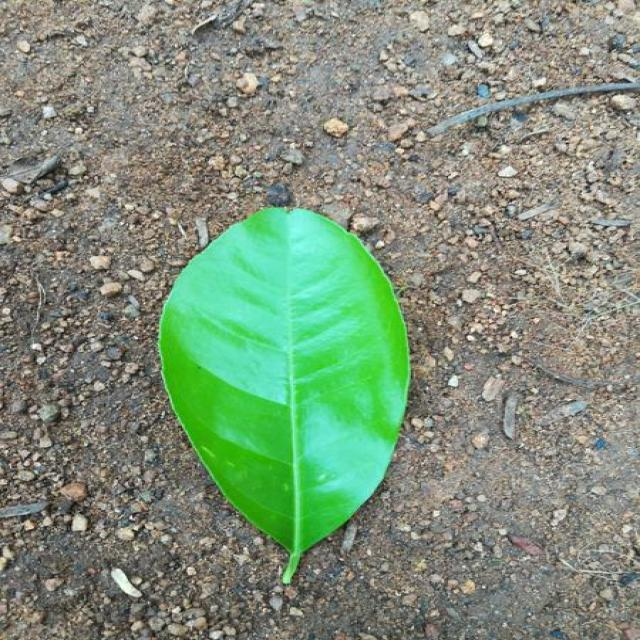citron lime: (160, 209, 410, 583)
